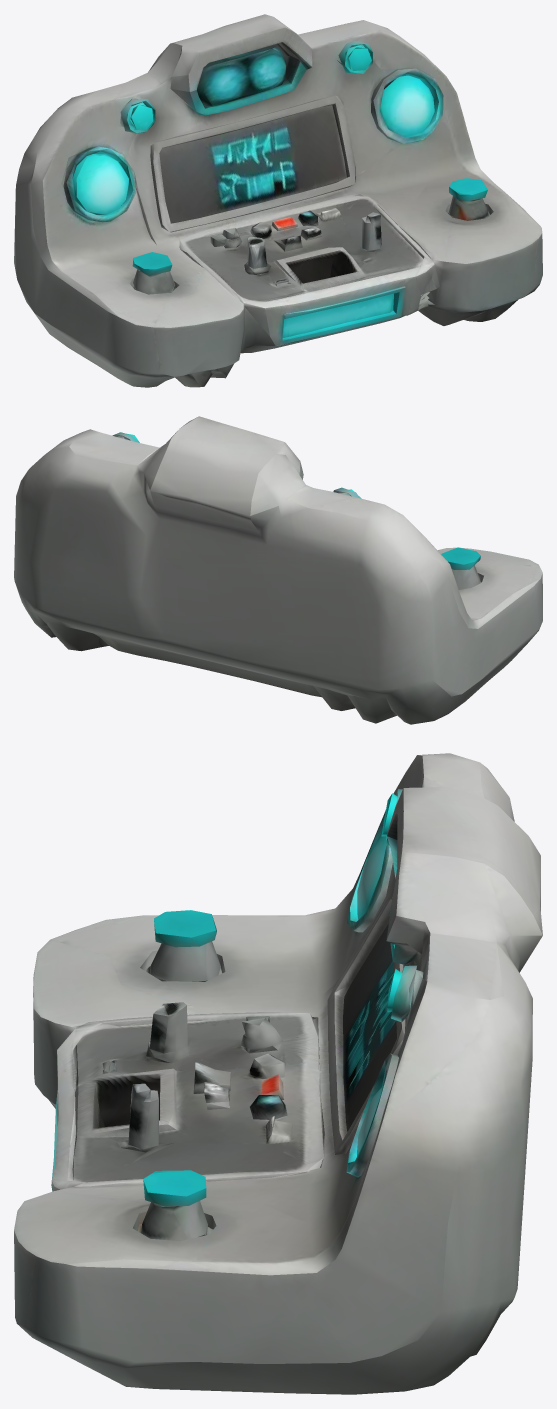
File: shipConsole.glb
The picture shows the model from 3 angles, top to bottom: view 1: azimuth 30°, elevation 25°; view 2: azimuth 150°, elevation 25°; view 3: azimuth 270°, elevation 25°; orthographic projection. The views are drawn at different scales.
Visible parts, largest first — view 1: model; view 2: model; view 3: model.
Part boxes in pixels (x1,y1,x2,y2): model: [14, 14, 542, 387]; model: [14, 416, 542, 724]; model: [14, 753, 542, 1394].
Bounding box in the file's own units: 1.89 × 1.03 × 1.19.
1 material, 1 textured.
